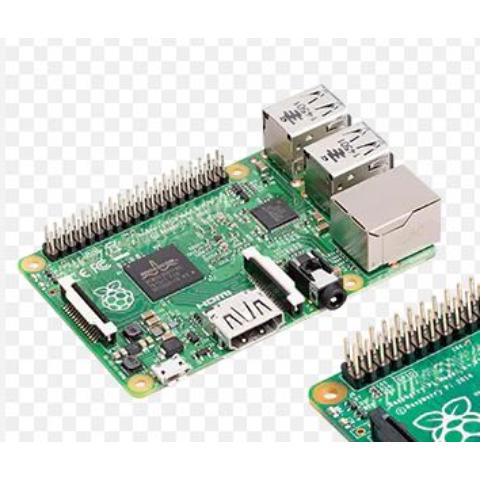Raspberry-Pi-1-Model-B-: (15, 79, 445, 406)
